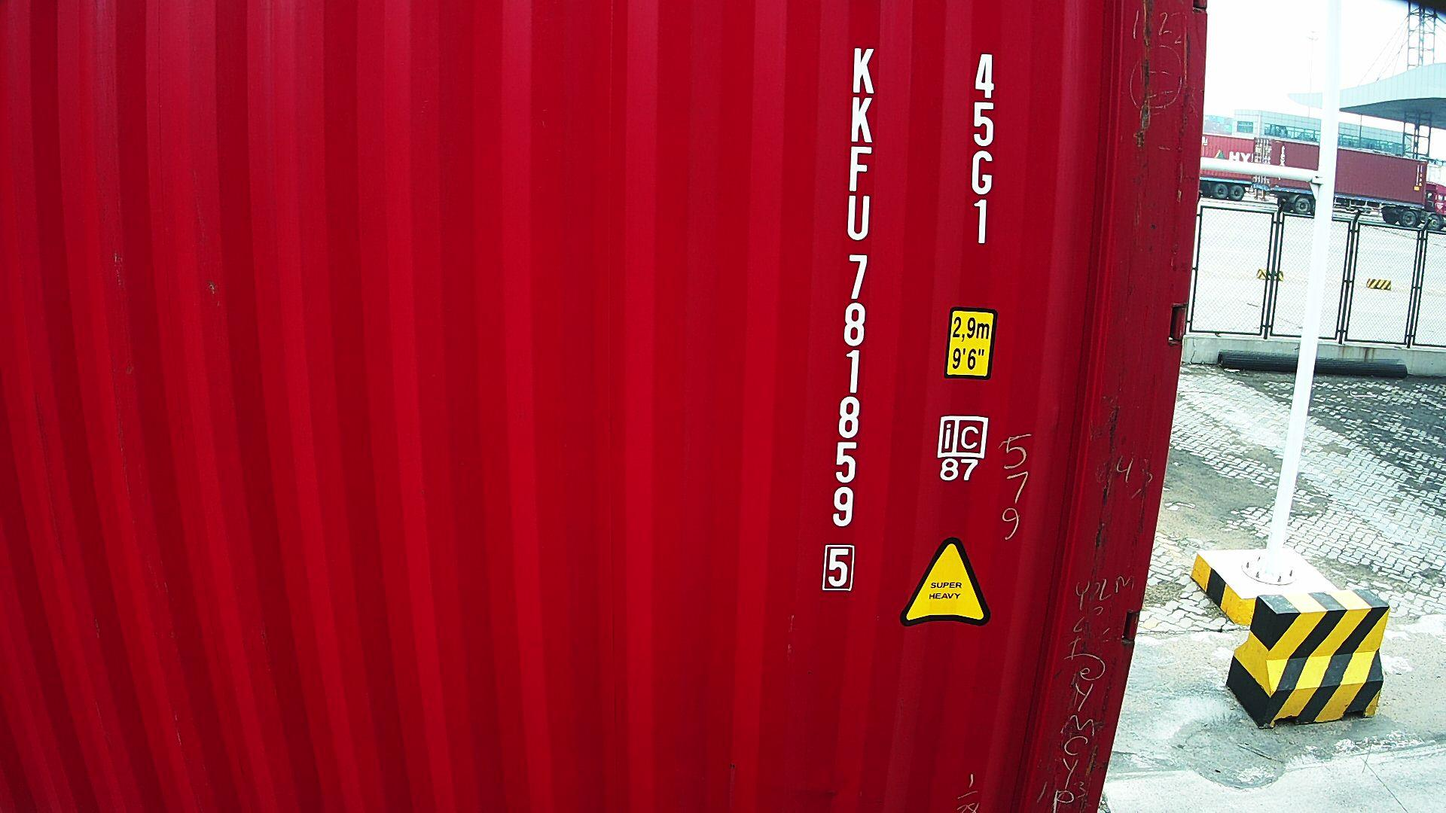container-numbers: (818, 44, 883, 596), (962, 47, 1006, 249)
